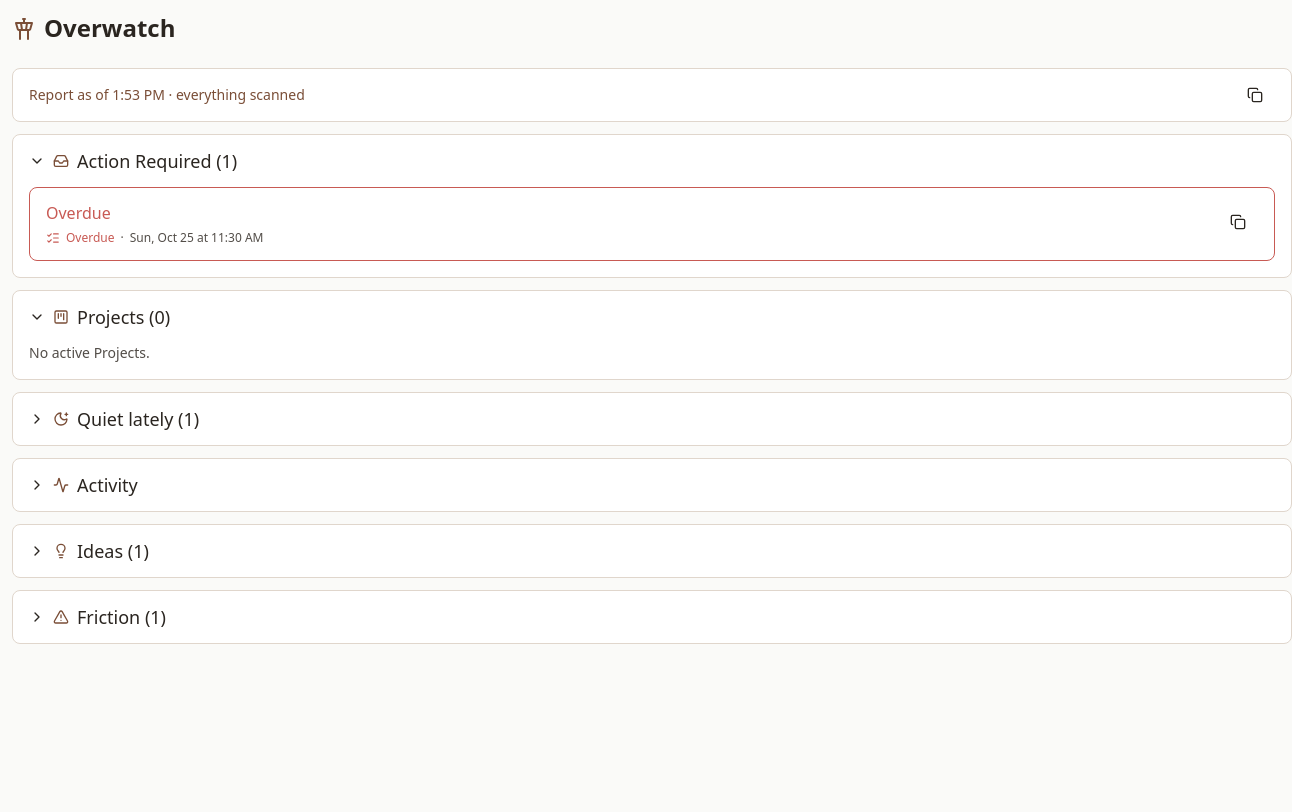
a new apps row groups its tagged ideas with no code change (apps are read live)
The width and height of the screenshot is (1292, 812).
Click the button "Ideas (1)" at (89, 551), box [29, 529, 149, 573]
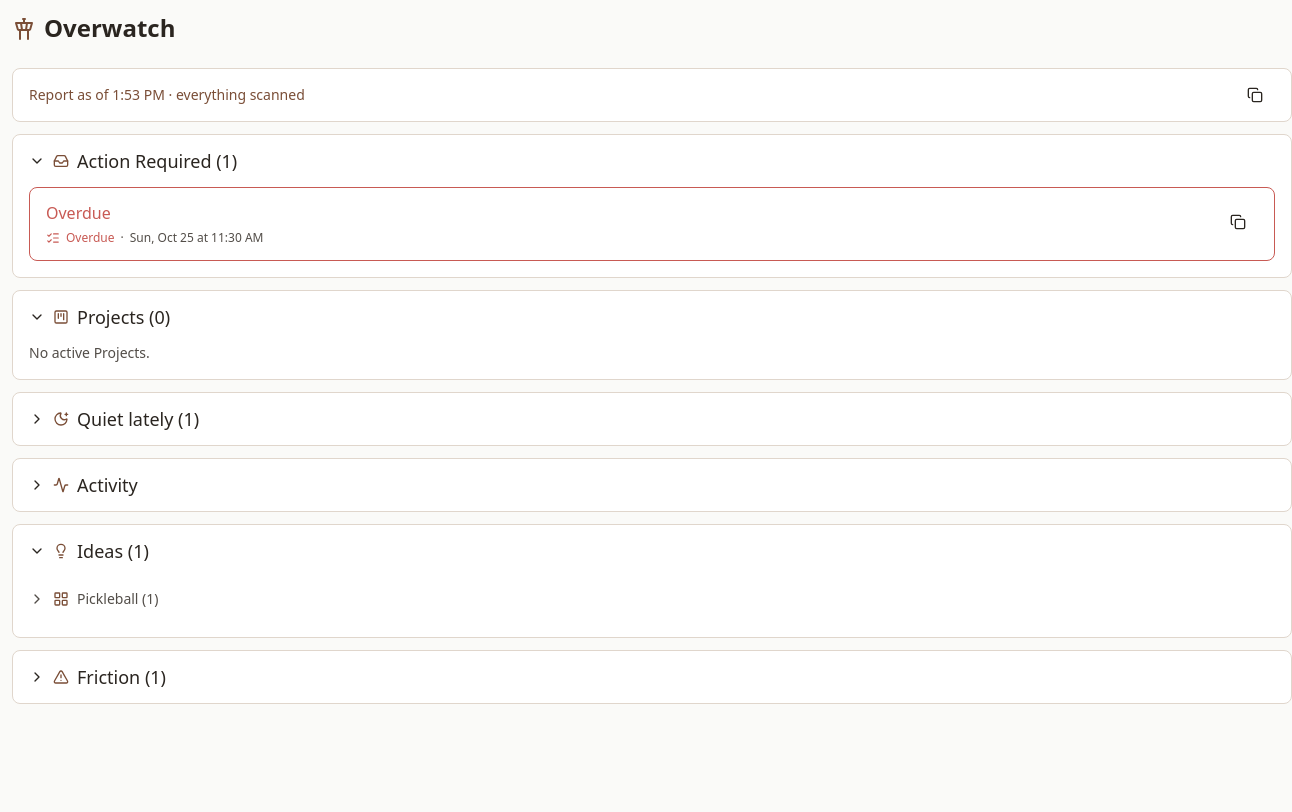
Now the button "Pickleball (1)" is shown, box [29, 577, 158, 621]
